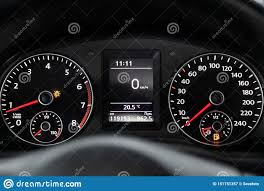Digital_Meter: (105, 110, 154, 121)
